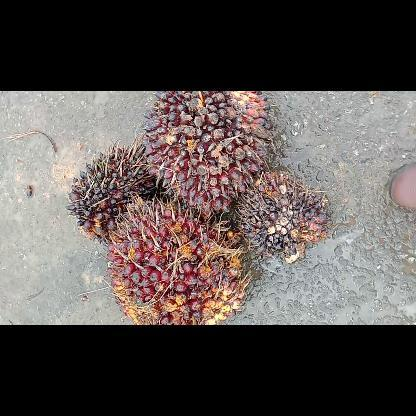Kurang masak: (145, 91, 273, 217)
TBS abnormal: (67, 146, 155, 244), (246, 172, 328, 260)
TBS masak: (109, 200, 247, 324)
